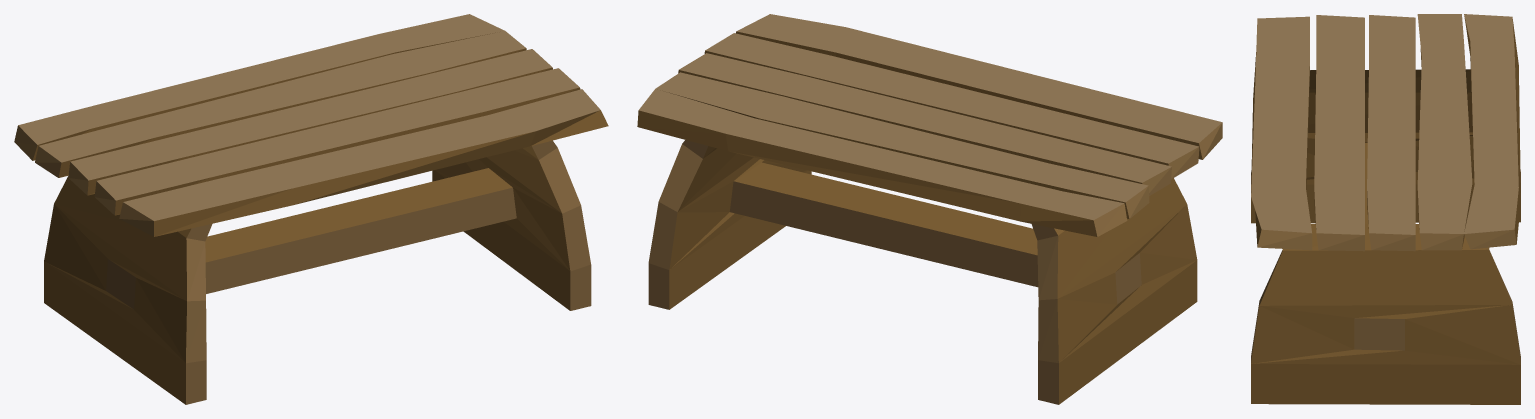
The picture shows the model from 3 angles, left to right: view 1: azimuth 30°, elevation 25°; view 2: azimuth 150°, elevation 25°; view 3: azimuth 270°, elevation 25°; orthographic projection. The views are drawn at different scales.
Size of the model in its own units: 251 by 95 by 128.
Materials: 1 (1 with a texture image).
